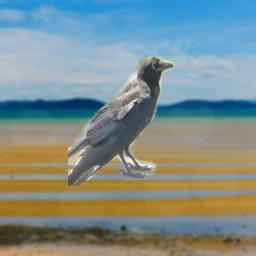Crow: (68, 56, 175, 186)
